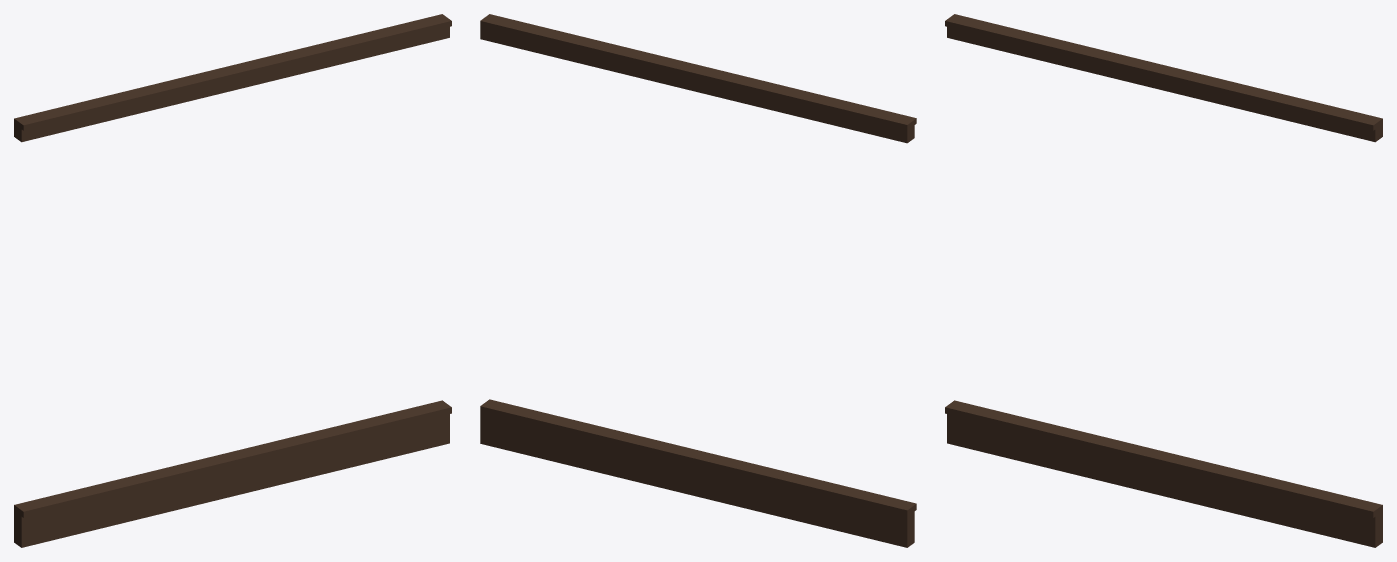
The model's file is wall_trim.glb.
3 renders of one model, left to right at view 1: azimuth 30°, elevation 25°; view 2: azimuth 150°, elevation 25°; view 3: azimuth 330°, elevation 25°, orthographic.
Parts seen in each view (by area): view 1: wall_trim; view 2: wall_trim; view 3: wall_trim.
Part boxes in pixels (x1,y1,x2,y2): wall_trim: (14, 14, 451, 547); wall_trim: (480, 14, 916, 547); wall_trim: (945, 14, 1382, 547).
Bounding box in the file's own units: 1 × 0.946 × 0.038.
